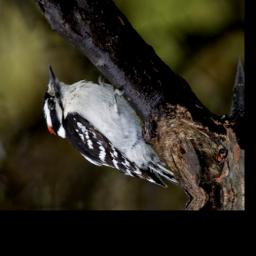Woodpecker: (41, 56, 182, 195)
